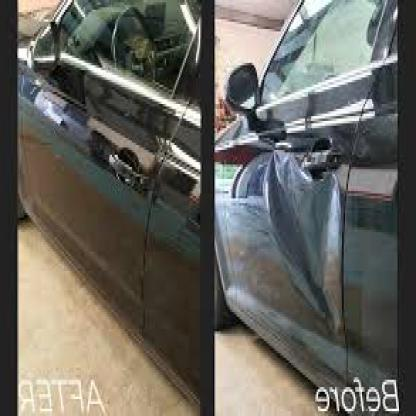dent: (266, 157, 353, 324)
